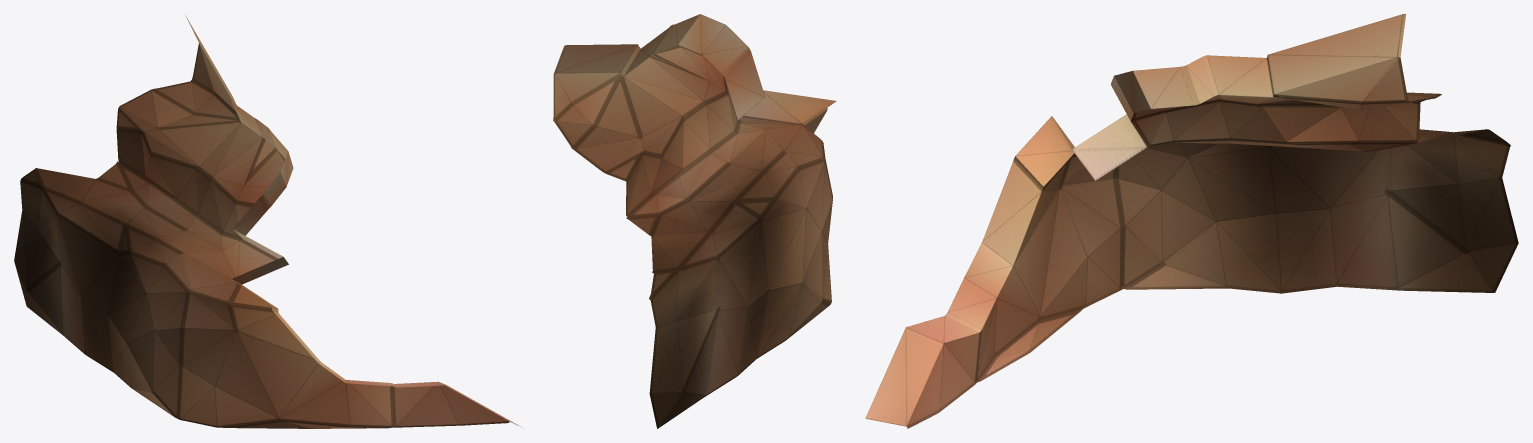
The model's file is structure_wall001.glb.
3 views of the same model, side by side, from view 1: azimuth 30°, elevation 25°; view 2: azimuth 150°, elevation 25°; view 3: azimuth 270°, elevation 25° (orthographic). The views are drawn at different scales.
Visible parts, largest first — view 1: roomwall.001; view 2: roomwall.001; view 3: roomwall.001.
Boxes of the visible parts, left/top/right/bottom form: roomwall.001: left=14, top=15, right=522, bottom=428; roomwall.001: left=553, top=14, right=836, bottom=428; roomwall.001: left=865, top=14, right=1518, bottom=428.
Size of the model in its own units: 6.04 by 6.67 by 11.13.
1 material, 1 textured.
